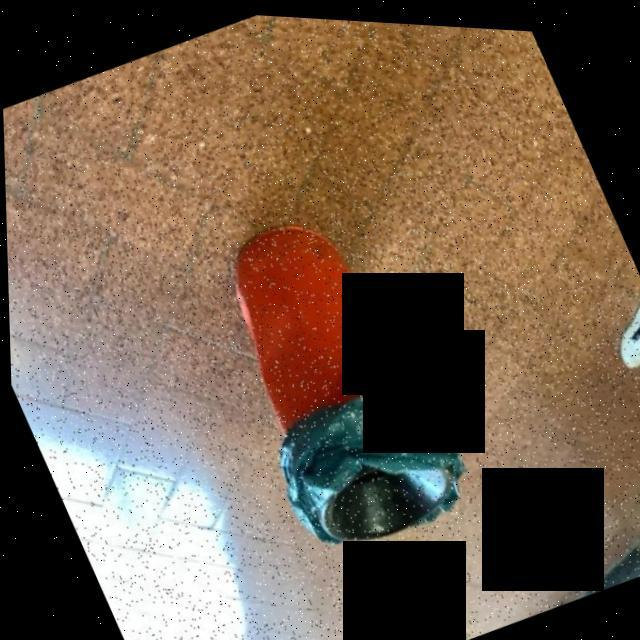bin: (161, 164, 491, 584)
